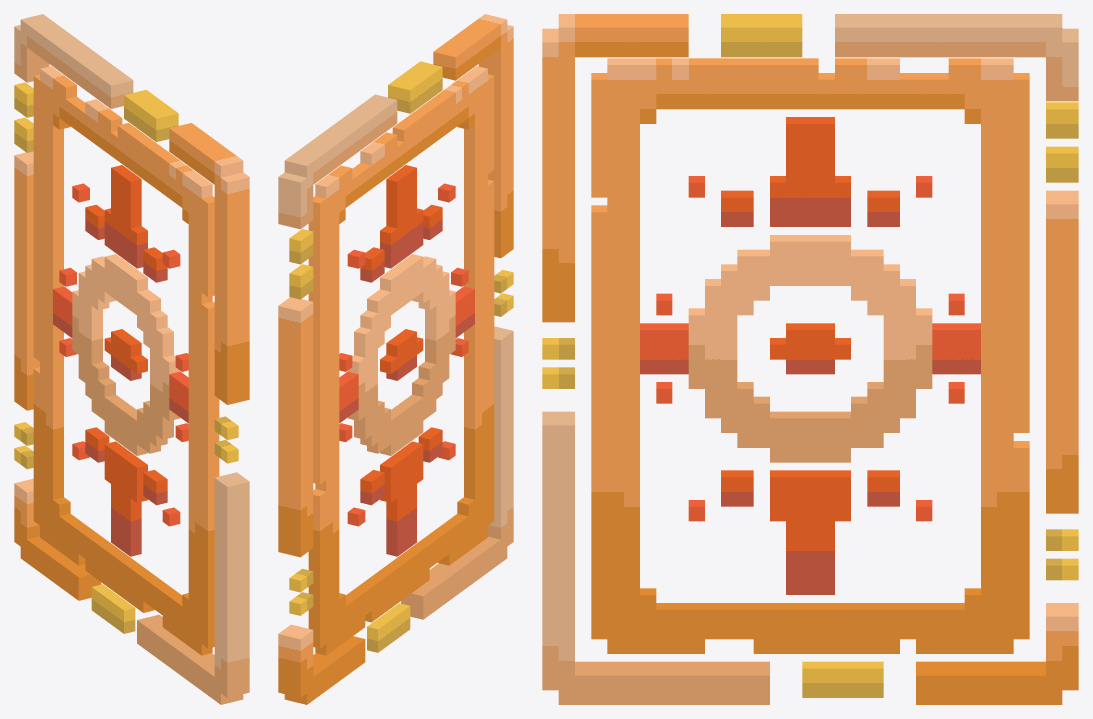
Rendered from 传送门.gltf.
The picture shows the model from 3 angles, left to right: view 1: azimuth 30°, elevation 25°; view 2: azimuth 150°, elevation 25°; view 3: azimuth 270°, elevation 25°; orthographic projection. The views are drawn at different scales.
Parts seen in each view (by area): view 1: Object; view 2: Object; view 3: Object.
Part boxes in pixels (x1=…): Object: x1=14, y1=14, x2=249, y2=704; Object: x1=278, y1=14, x2=513, y2=704; Object: x1=542, y1=14, x2=1078, y2=704.
Bounding box in the file's own units: 2 × 46 × 33.
Materials: 1 (1 with a texture image).
